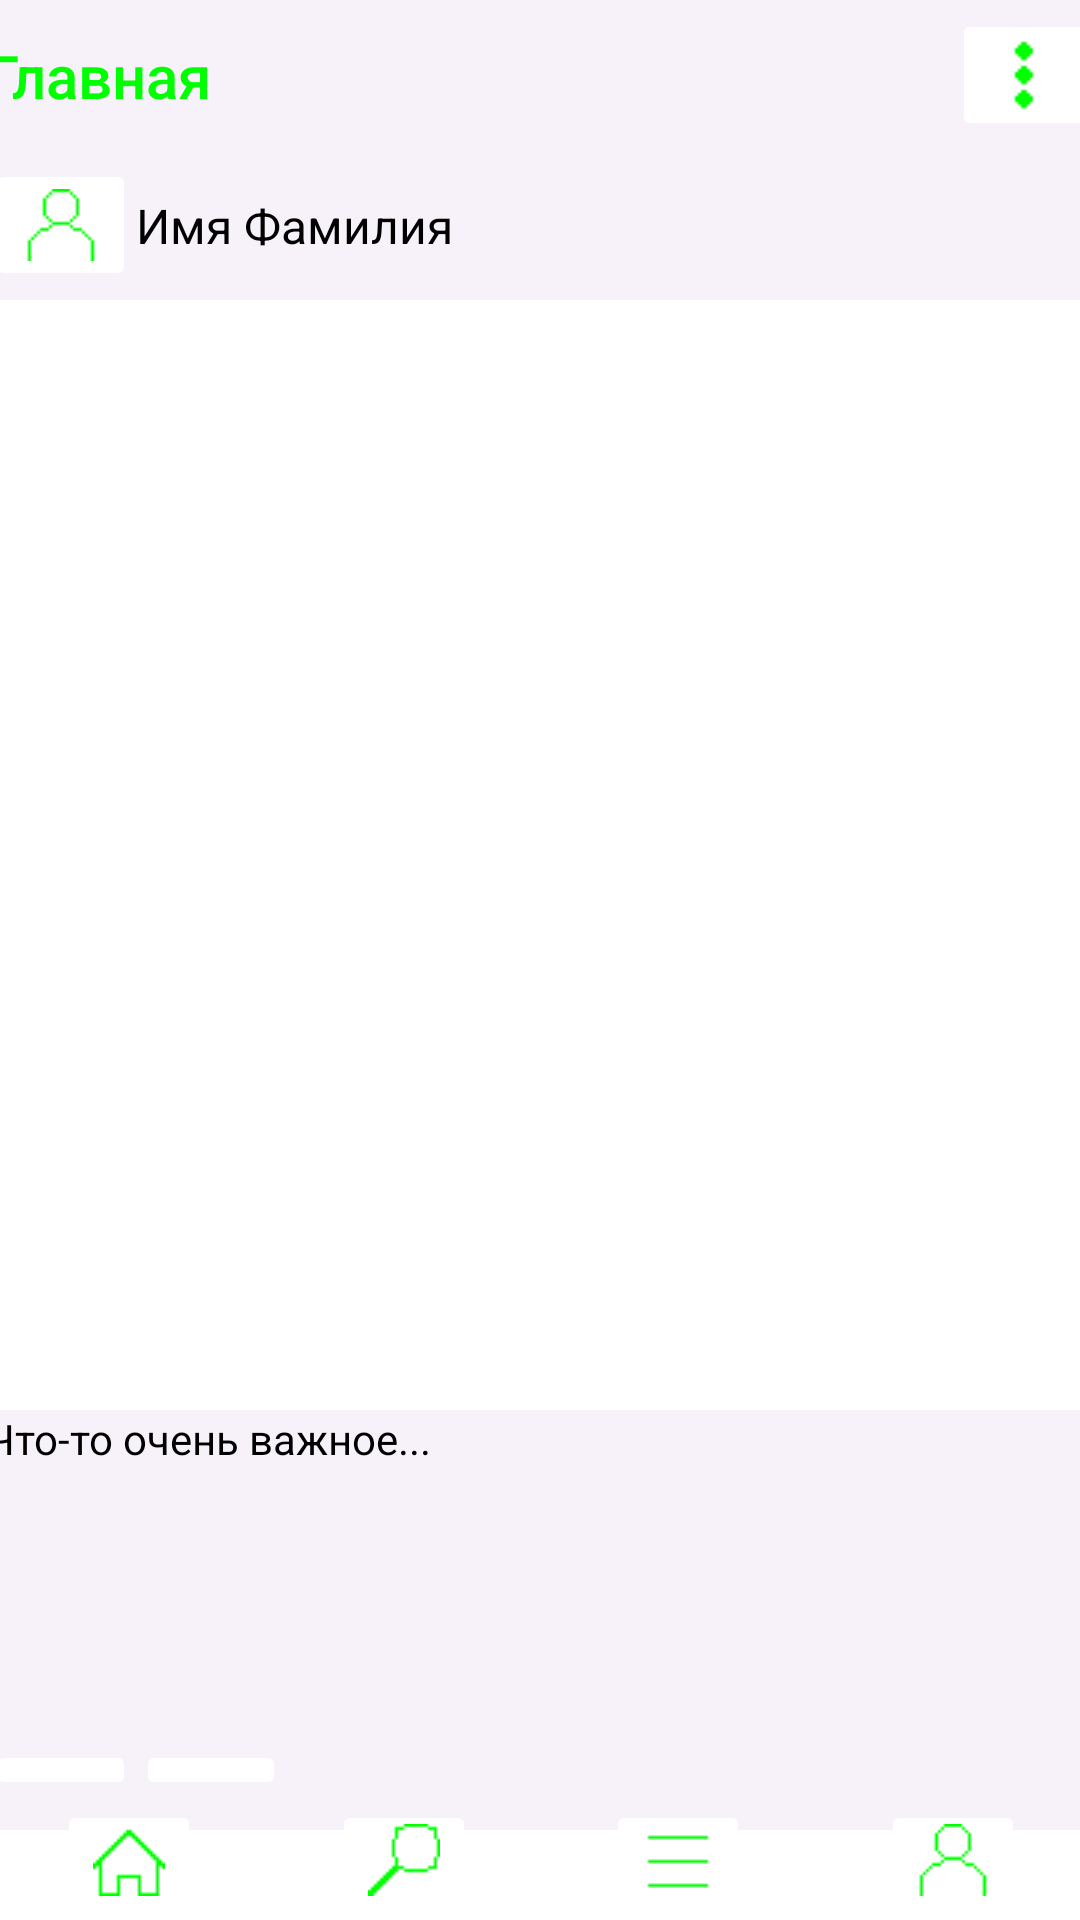

Screen size 1080px×1920px. Icon name, then its box in pixels as (x1, y1, x2, y2):
menu: (647, 1835, 709, 1888)
search: (368, 1824, 440, 1896)
